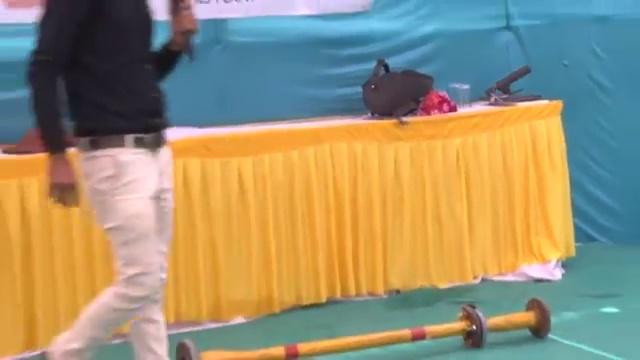person: (28, 1, 199, 360)
